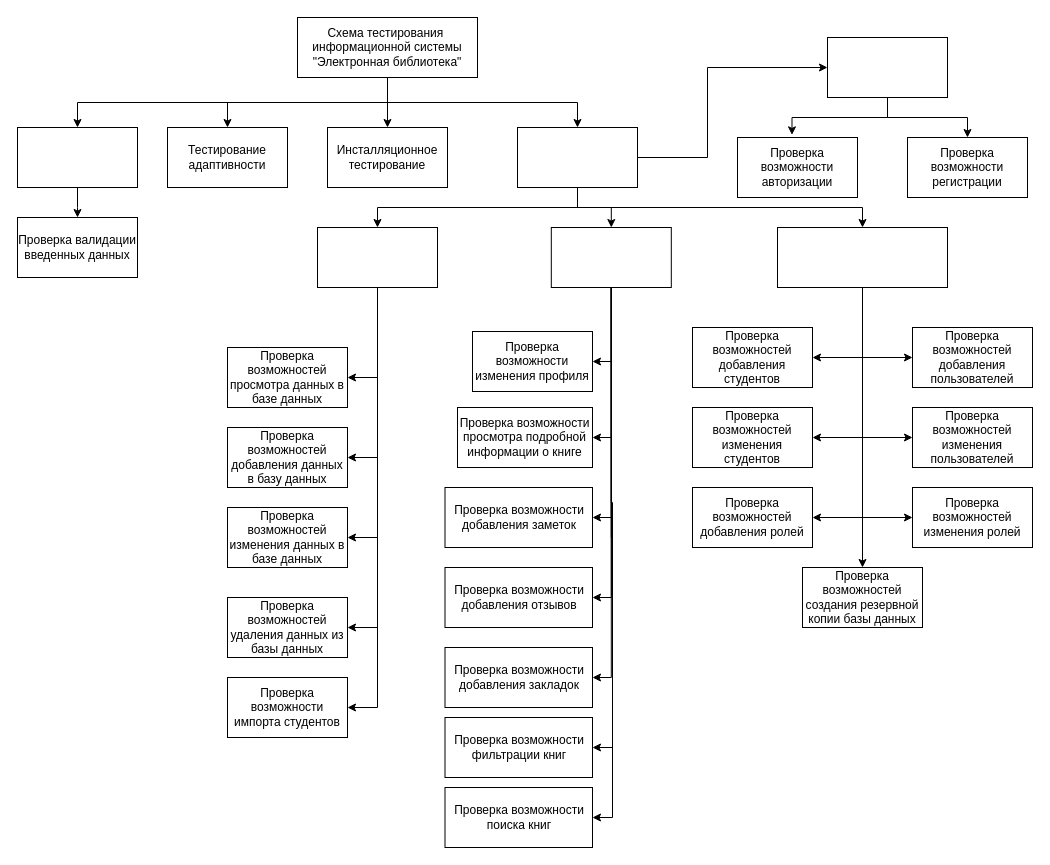
Image size: 1050x865. Some labels were removed from this diagram. The shapes that lost their labels are listed below. From the top down, each one's centre as x and y in pixels, then its label:
At point 887,67: "Проверка возможности авторизации и регистрации".
At point 77,157: "Тестирование безопасности".
At point 577,157: "Функциональное тестирование".
At point 377,257: "Проверка функциональных возможностей администратора".
At point 610,257: "Проверка функциональных возможностей пользователя".
At point 862,257: "Проверка функциональных возможностей администратора баз данных".
